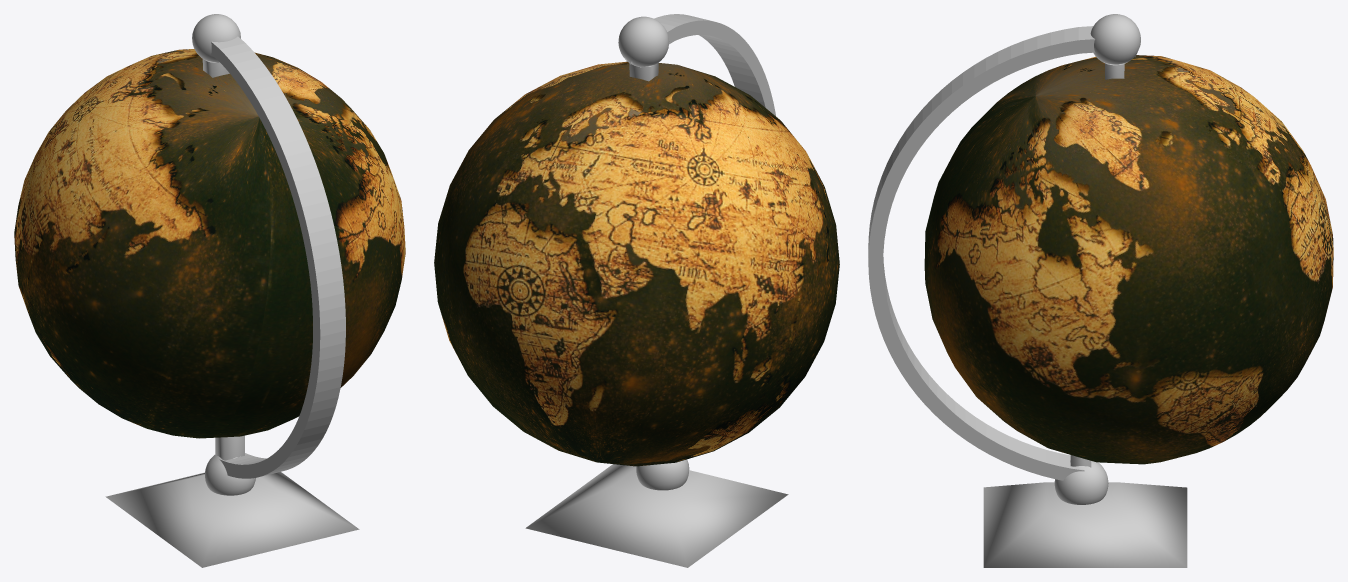
The model's file is Antique Globe.fbx.
3 renders of one model, left to right at view 1: azimuth 30°, elevation 25°; view 2: azimuth 150°, elevation 25°; view 3: azimuth 270°, elevation 25°, orthographic. The views are drawn at different scales.
Visible parts, largest first — view 1: Globe, Globe_Stand_part-1, Globe_Stand_part-2; view 2: Globe, Globe_Stand_part-1, Globe_Stand_part-2; view 3: Globe, Globe_Stand_part-1, Globe_Stand_part-2.
Part boxes in pixels (x1,y1,x2,y2): Globe: (14,49,405,438); Globe_Stand_part-1: (105,14,359,567); Globe_Stand_part-2: (211,36,345,478); Globe: (434,61,839,466); Globe_Stand_part-1: (525,16,788,567); Globe_Stand_part-2: (654,14,775,115); Globe: (924,55,1333,464); Globe_Stand_part-1: (983,14,1187,567); Globe_Stand_part-2: (868,26,1095,480).
Bounding box in the file's own units: 199 × 274 × 226.
